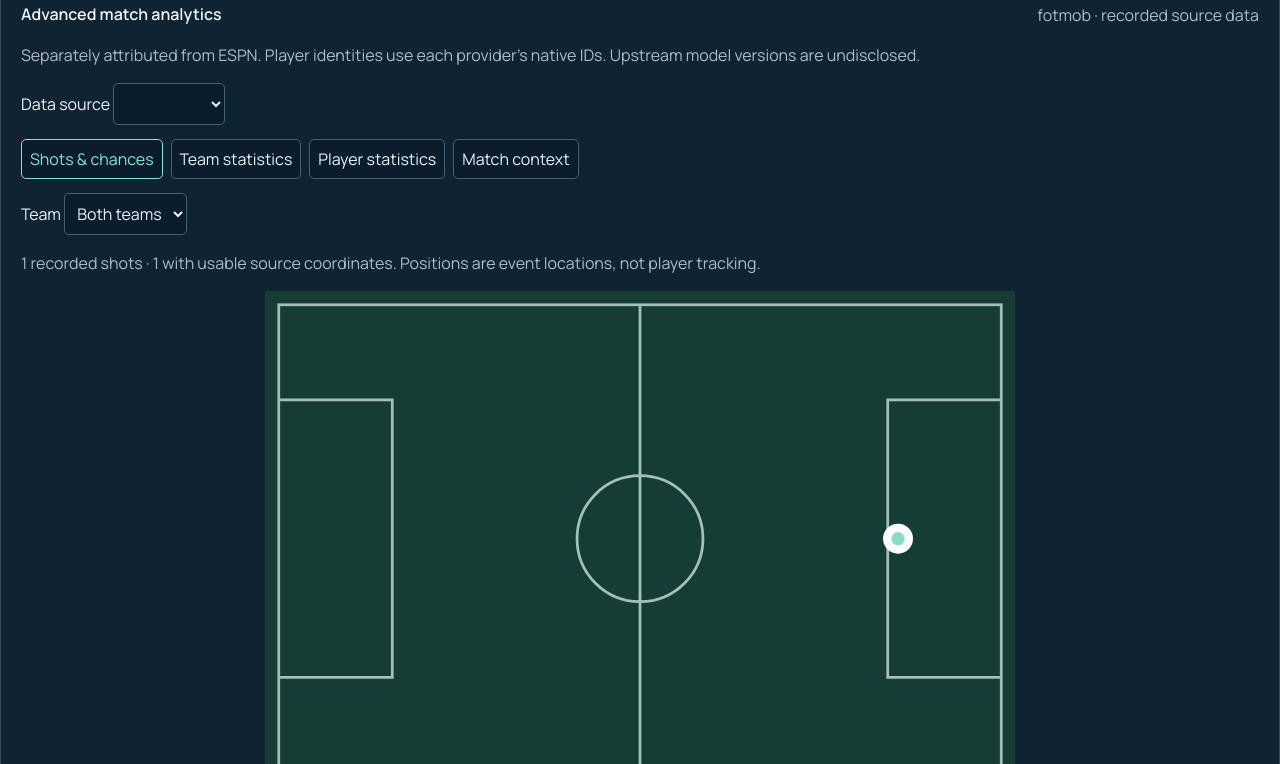
keeps Understat and FotMob shot models separate and does not infer xGOT
Step 1. Select "understat" in the dropdown labelled "Data source" → (169, 104), box [113,83,225,125]
(page scrolled)
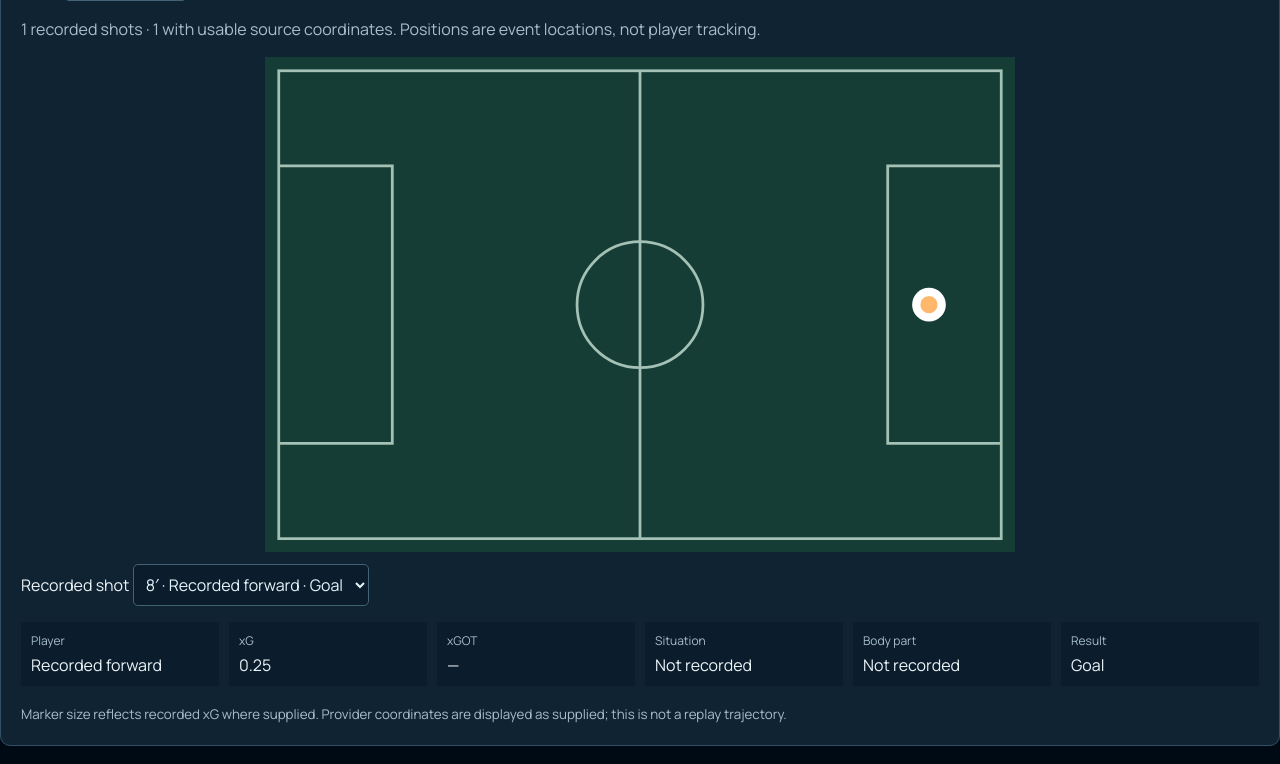
Expected: the text "1 recorded shots · 1" is shown, [21,18,761,40]
Expected: the text "0.25" is shown, [239,654,271,676]
